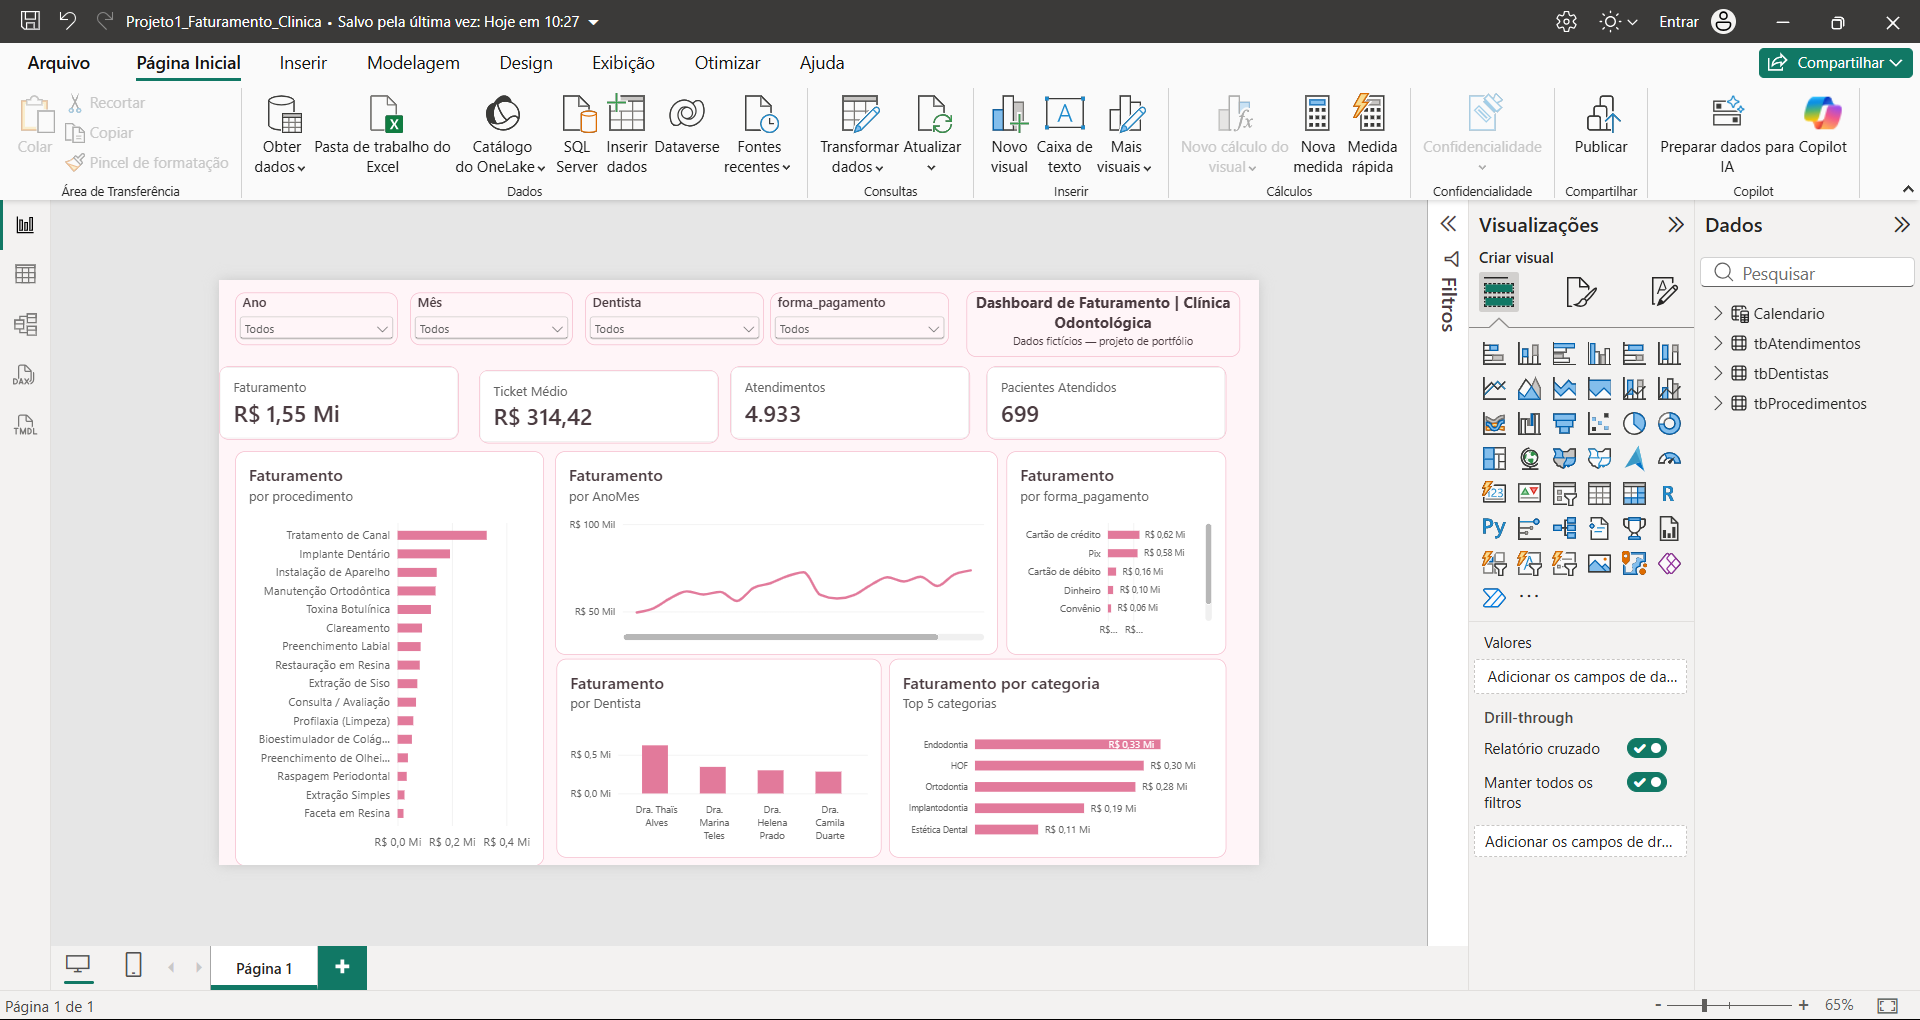

The dashboard page shown, as its layout file describes it:
{"tool":"powerbi","page":{"name":"Página 1","canvas":[1280,720],"ordinal":0},"visuals":[{"type":"cardVisual","fields":{"Data":["tbAtendimentos.Ticket Médio"]},"box":[320.3,110.4,295,90],"z":0},{"type":"cardVisual","fields":{"Data":["Calendario.Atendimentos"]},"box":[629.8,106.8,295,90],"z":1000},{"type":"cardVisual","fields":{"Data":["tbAtendimentos.Faturamento"]},"box":[0,106.8,295,90],"z":2000},{"type":"lineChart","fields":{"Category":["Calendario.AnoMes"],"Y":["tbAtendimentos.Faturamento"]},"box":[414.5,210.1,545,250],"z":3000},{"type":"cardVisual","fields":{"Data":["tbAtendimentos.Pacientes Atendidos"]},"box":[944.6,106.8,295,90],"z":4000},{"type":"barChart","fields":{"Category":["tbAtendimentos.forma_pagamento"],"Y":["tbAtendimentos.Faturamento"]},"box":[969.7,210.1,270,250],"z":5000},{"type":"lineClusteredColumnComboChart","fields":{"Category":["tbDentistas.dentista"],"Y":["tbAtendimentos.Faturamento"]},"box":[415,466.9,400,245],"z":6000},{"type":"barChart","fields":{"Category":["tbProcedimentos.categoria"],"Y":["tbAtendimentos.Faturamento"]},"box":[825.2,466.9,415,245],"z":7000},{"type":"slicer","fields":{"Values":["Calendario.Ano"]},"box":[20,15,200,65],"z":8000},{"type":"slicer","fields":{"Values":["Calendario.Mês"]},"box":[235,15,200,65],"z":9000},{"type":"slicer","fields":{"Values":["tbDentistas.dentista"]},"box":[450,15,220,65],"z":10000},{"type":"slicer","fields":{"Values":["tbAtendimentos.forma_pagamento"]},"box":[678,15.7,220,65],"z":11000},{"type":"barChart","fields":{"Category":["tbProcedimentos.procedimento"],"Y":["tbAtendimentos.Faturamento"]},"box":[20,210,380,510],"z":12000},{"type":"textbox","box":[920.5,14.5,336.6,80.8],"z":14000}]}

Visuals, with their boxes on the page's 1280x720 design canvas (x1, y1, x2, y2). These are canvas units, not pixel positions in the 1920x1020 screenshot, which may show the page scaled, cropped or inside an application window:
cardVisual - tbAtendimentos.Ticket Médio: (x1=320, y1=110, x2=615, y2=200)
cardVisual - Calendario.Atendimentos: (x1=630, y1=107, x2=925, y2=197)
cardVisual - tbAtendimentos.Faturamento: (x1=0, y1=107, x2=295, y2=197)
lineChart - Calendario.AnoMes x tbAtendimentos.Faturamento: (x1=414, y1=210, x2=960, y2=460)
cardVisual - tbAtendimentos.Pacientes Atendidos: (x1=945, y1=107, x2=1240, y2=197)
barChart - tbAtendimentos.forma_pagamento x tbAtendimentos.Faturamento: (x1=970, y1=210, x2=1240, y2=460)
lineClusteredColumnComboChart - tbDentistas.dentista x tbAtendimentos.Faturamento: (x1=415, y1=467, x2=815, y2=712)
barChart - tbProcedimentos.categoria x tbAtendimentos.Faturamento: (x1=825, y1=467, x2=1240, y2=712)
slicer - Calendario.Ano: (x1=20, y1=15, x2=220, y2=80)
slicer - Calendario.Mês: (x1=235, y1=15, x2=435, y2=80)
slicer - tbDentistas.dentista: (x1=450, y1=15, x2=670, y2=80)
slicer - tbAtendimentos.forma_pagamento: (x1=678, y1=16, x2=898, y2=81)
barChart - tbProcedimentos.procedimento x tbAtendimentos.Faturamento: (x1=20, y1=210, x2=400, y2=720)
textbox: (x1=920, y1=14, x2=1257, y2=95)
